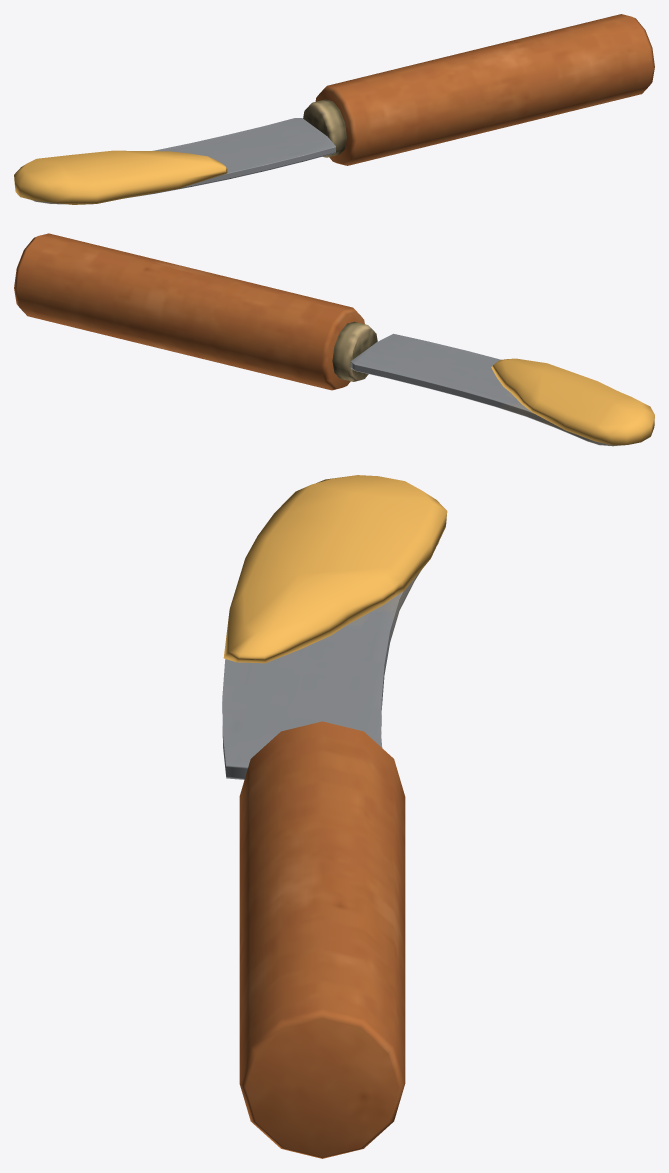
The model's file is pi_knife01_peanutbutter.gltf.
The picture shows the model from 3 angles, top to bottom: view 1: azimuth 30°, elevation 25°; view 2: azimuth 150°, elevation 25°; view 3: azimuth 270°, elevation 25°; orthographic projection. The views are drawn at different scales.
Parts seen in each view (by area): view 1: um_pi_knife01_peanutbutter_model_pi_knife01_peanutbutter_mod (×2); view 2: um_pi_knife01_peanutbutter_model_pi_knife01_peanutbutter_mod (×2); view 3: um_pi_knife01_peanutbutter_model_pi_knife01_peanutbutter_mod (×2).
Boxes of the visible parts, bbox=[...] form: um_pi_knife01_peanutbutter_model_pi_knife01_peanutbutter_mod (×2): bbox=[14, 14, 654, 204]; um_pi_knife01_peanutbutter_model_pi_knife01_peanutbutter_mod (×2): bbox=[14, 233, 654, 446]; um_pi_knife01_peanutbutter_model_pi_knife01_peanutbutter_mod (×2): bbox=[222, 475, 447, 1158].
Size of the model in its own units: 0.1991 by 0.0235 by 0.0321.
Materials: 3 (3 with a texture image).
